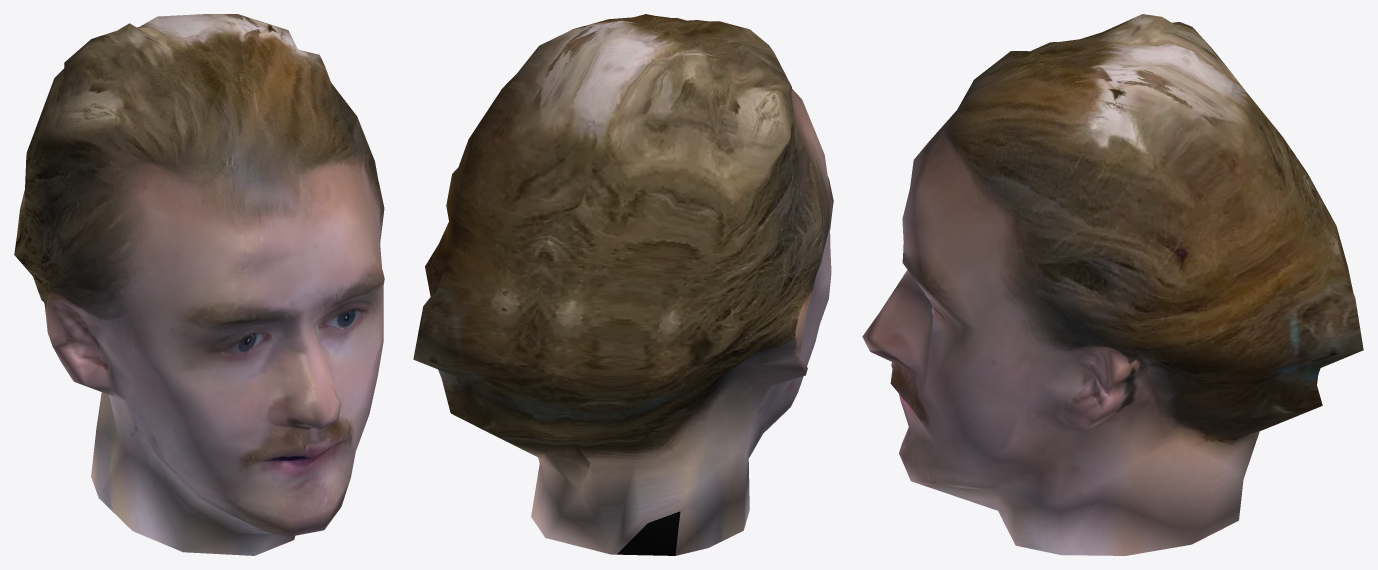
The model's file is aegircolor-transformed.glb.
3 renders of one model, left to right at view 1: azimuth 30°, elevation 25°; view 2: azimuth 150°, elevation 25°; view 3: azimuth 270°, elevation 25°, orthographic. The views are drawn at different scales.
Parts seen in each view (by area): view 1: head3d; view 2: head3d; view 3: head3d.
Boxes of the visible parts, box(x1,y1,x2,y2) form: head3d: box(14, 14, 384, 555); head3d: box(413, 14, 833, 555); head3d: box(862, 14, 1363, 555).
Size of the model in its own units: 19.94 by 28.66 by 26.83.
Materials: 1 (1 with a texture image).
